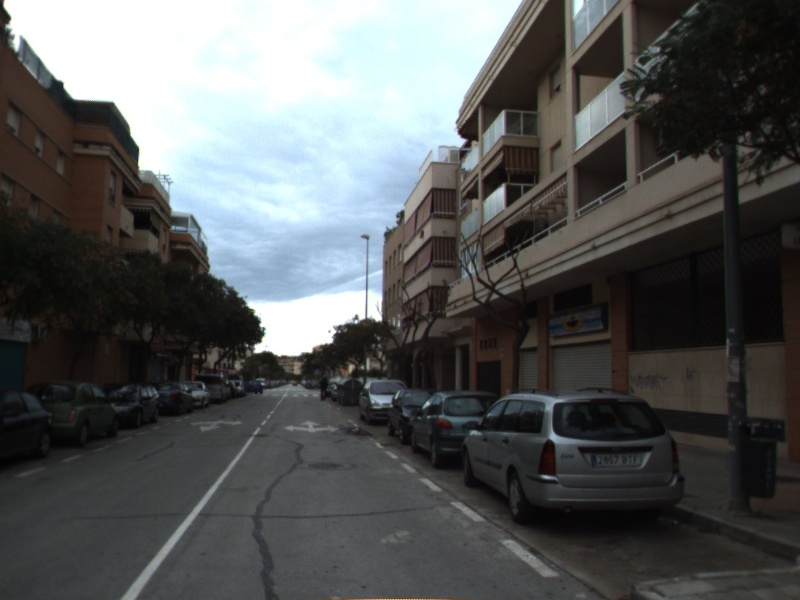STRAIGHT_LEFT_RIGHT: (282, 418, 341, 435)
